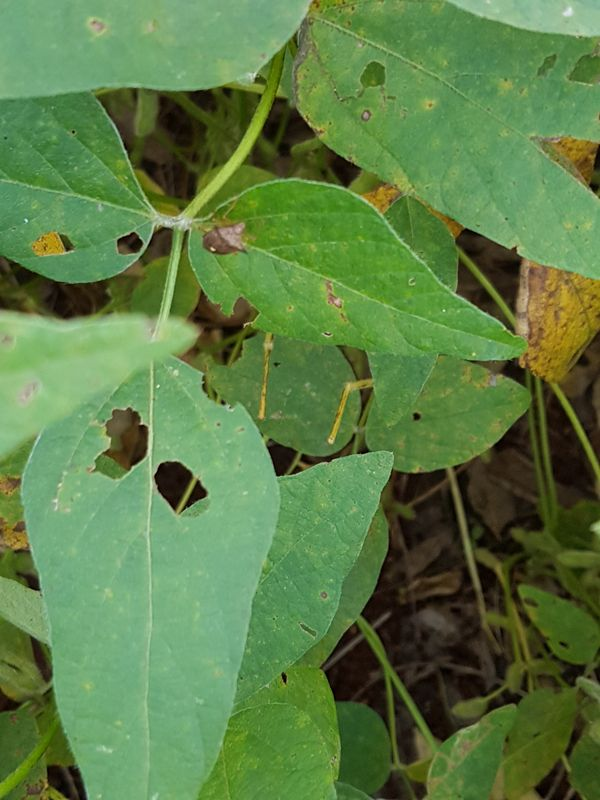Euschistus_heros_adulto: (198, 209, 257, 266)
